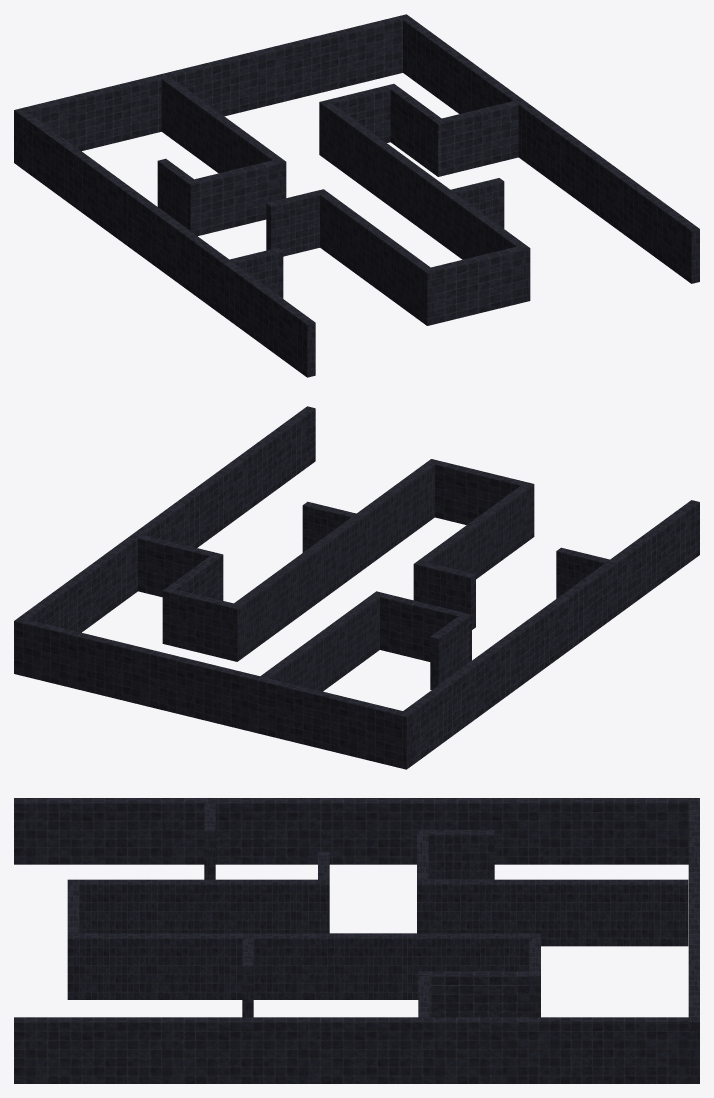
3 views of the same model, one above another, from view 1: azimuth 30°, elevation 25°; view 2: azimuth 150°, elevation 25°; view 3: azimuth 270°, elevation 25° (orthographic). The views are drawn at different scales.
Visible parts, largest first — view 1: pCube50, pCube26, pCube37, pCube35, pCube39, pCube41, pCube34, pCube42, pCube48, pCube16, pCube40, pCube38 (+2 smaller); view 2: pCube50, pCube35, pCube39, pCube26, pCube37, pCube40, pCube41, pCube34, pCube42, pCube16, pCube38, pCube48 (+2 smaller); view 3: pCube50, pCube35, pCube37, pCube26, pCube39, pCube48, pCube38, pCube40, pCube49, pCube44, pCube41, pCube34 (+1 smaller).
Boxes of the visible parts, left/top/right/bottom form: pCube50: left=14, top=14, right=699, bottom=377; pCube26: left=315, top=189, right=435, bottom=325; pCube37: left=161, top=77, right=286, bottom=199; pCube35: left=409, top=166, right=530, bottom=302; pCube39: left=319, top=100, right=417, bottom=220; pCube41: left=185, top=160, right=277, bottom=235; pCube34: left=431, top=246, right=521, bottom=323; pCube42: left=442, top=101, right=518, bottom=174; pCube48: left=390, top=87, right=446, bottom=176; pCube16: left=266, top=191, right=319, bottom=256; pCube40: left=328, top=84, right=398, bottom=142; pCube38: left=157, top=158, right=193, bottom=226; pCube50: left=14, top=406, right=699, bottom=769; pCube35: left=319, top=459, right=439, bottom=595; pCube39: left=229, top=541, right=327, bottom=661; pCube26: left=413, top=482, right=534, bottom=602; pCube37: left=260, top=591, right=384, bottom=691; pCube40: left=162, top=587, right=233, bottom=659; pCube41: left=380, top=593, right=471, bottom=663; pCube34: left=435, top=461, right=524, bottom=524; pCube42: left=138, top=535, right=214, bottom=597; pCube16: left=422, top=562, right=475, bottom=629; pCube38: left=430, top=616, right=466, bottom=689; pCube48: left=168, top=552, right=223, bottom=600; pCube50: left=14, top=798, right=699, bottom=1083; pCube35: left=67, top=933, right=329, bottom=999; pCube37: left=417, top=879, right=688, bottom=946; pCube26: left=67, top=879, right=329, bottom=933; pCube39: left=330, top=933, right=540, bottom=999; pCube48: left=418, top=971, right=529, bottom=1017; pCube38: left=428, top=830, right=494, bottom=879; pCube40: left=529, top=938, right=540, bottom=1017; pCube49: left=242, top=938, right=253, bottom=1017; pCube44: left=204, top=803, right=215, bottom=879; pCube41: left=417, top=830, right=428, bottom=879; pCube34: left=67, top=884, right=78, bottom=933.
Size of the model in its own units: 114 by 14.72 by 148.
1 material, 1 textured.
